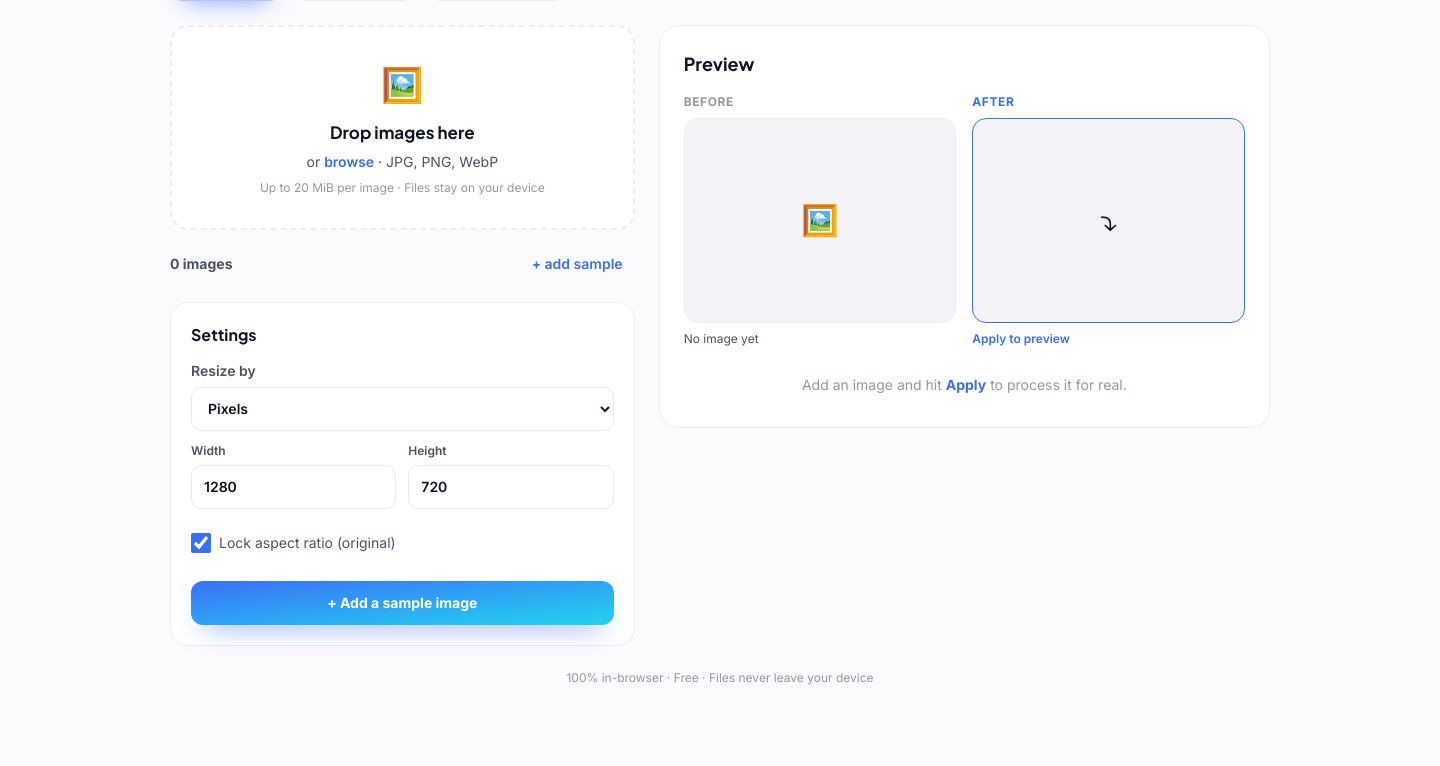
Test case: image tools integration › adds a local sample through the real upload pipeline
The image size is (1440, 766).
(page scrolled)
Step 1. Click the button "+ Add a sample image" → click(402, 602), box [191,580,614,624]
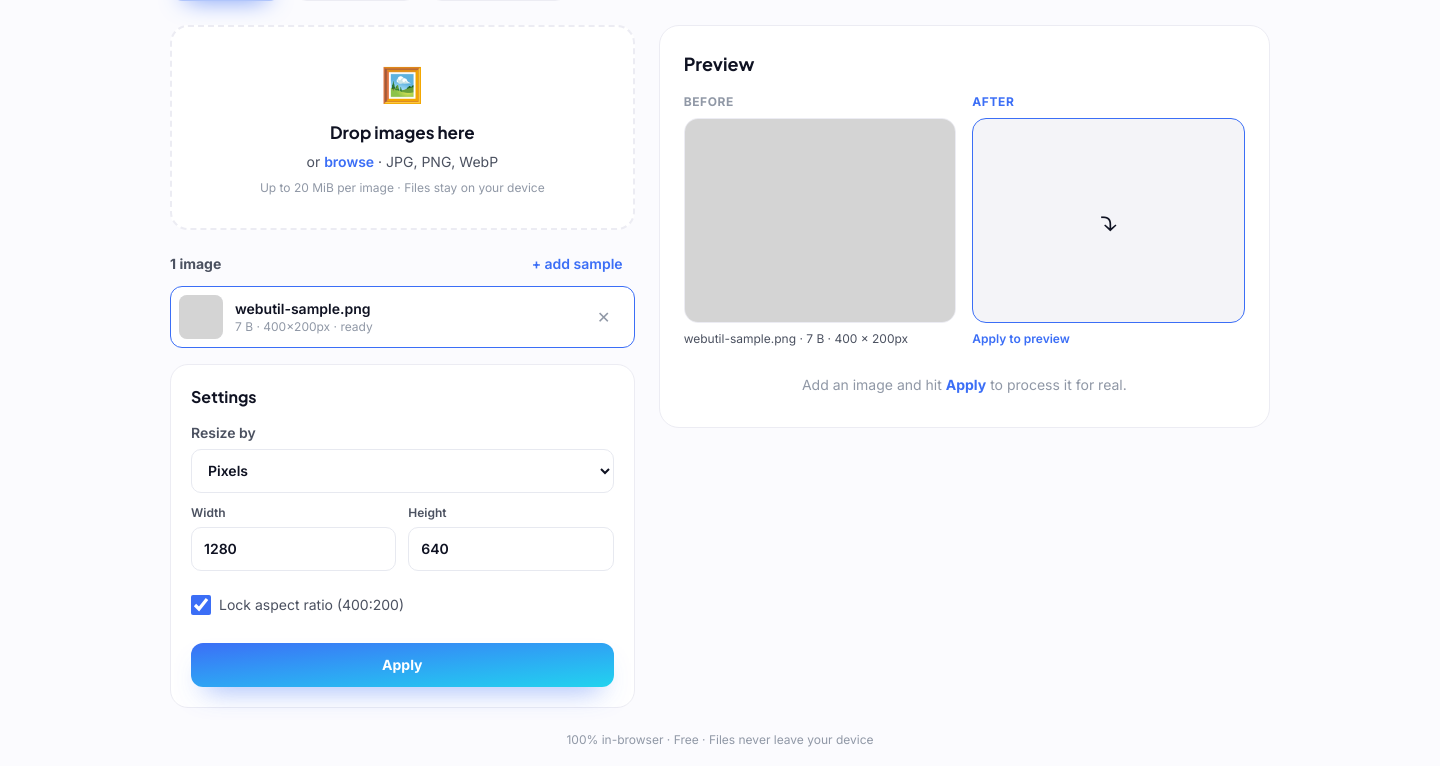
Expected: the button "Apply" is enabled, [191,642,614,686]
Now the button with aria-label "Preview webutil-sample.png" is shown, box [179,294,574,338]
